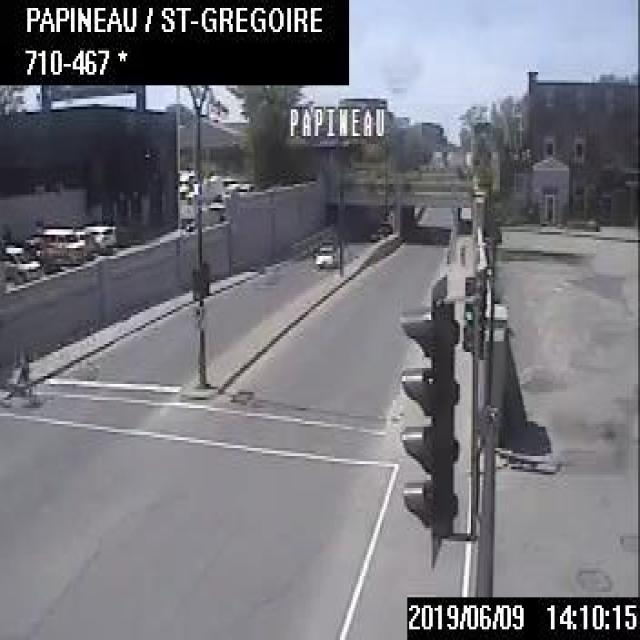pedestrian: (1, 342, 42, 409)
vehicle: (40, 224, 85, 264), (0, 242, 44, 282), (82, 223, 114, 252), (314, 238, 336, 266), (74, 228, 94, 258)
